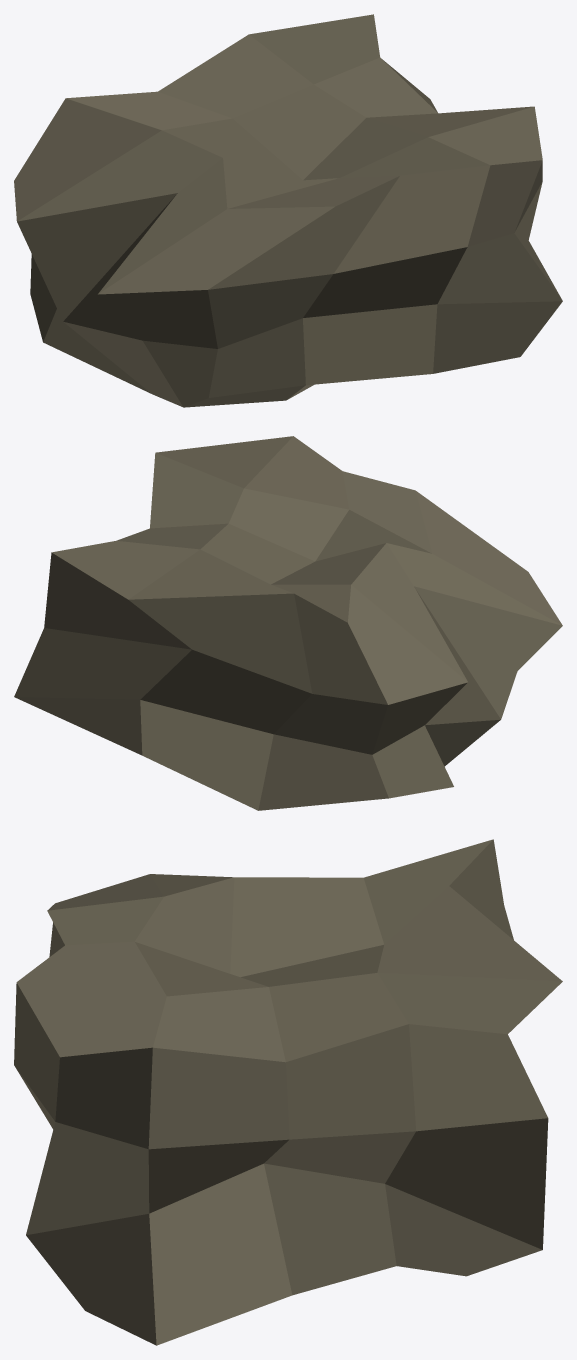
Rendered from Brick3.fbx.
3 views of the same model, one above another, from view 1: azimuth 30°, elevation 25°; view 2: azimuth 150°, elevation 25°; view 3: azimuth 270°, elevation 25° (orthographic). The views are drawn at different scales.
Visible parts, largest first — view 1: Brick3; view 2: Brick3; view 3: Brick3.
Part boxes in pixels (x1,y1,x2,y2): Brick3: (14,14,562,407); Brick3: (14,436,562,810); Brick3: (14,839,562,1345).
Size of the model in its own units: 51.43 by 26.46 by 42.23.
